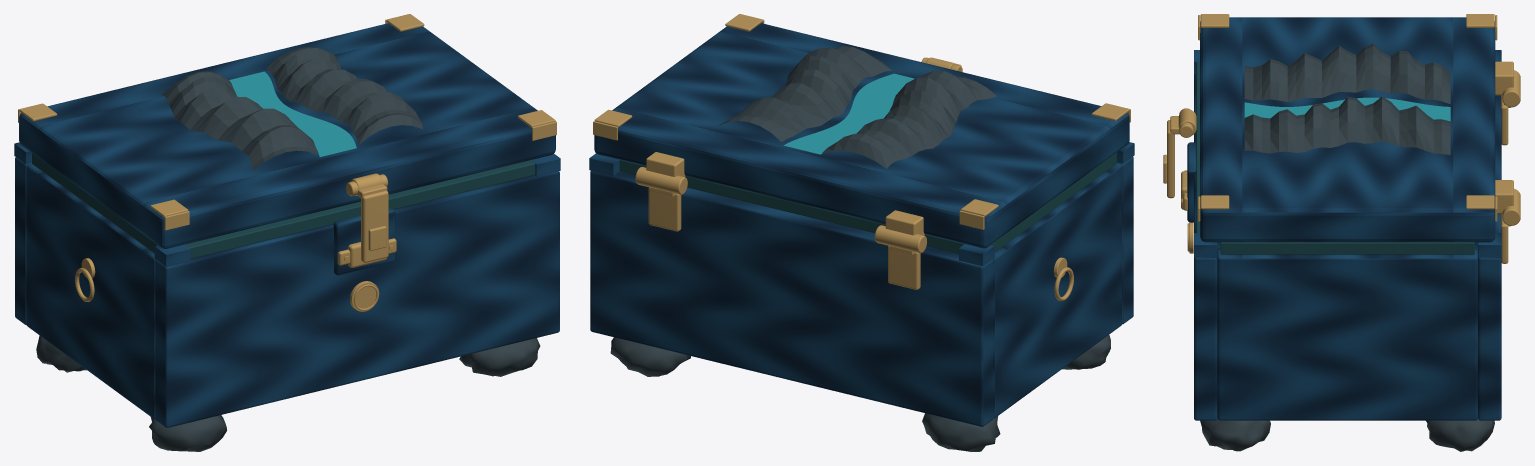
Rendered from atlantic.glb.
3 renders of one model, left to right at view 1: azimuth 30°, elevation 25°; view 2: azimuth 150°, elevation 25°; view 3: azimuth 270°, elevation 25°, orthographic.
Visible parts, largest first — view 1: Abyss / front, Lid / polished slab, Abyss / side, Ridge / west, Ridge / east, Mineral seam / long, Rift / continuous channel, Basalt foot, Abyss / rear, Basalt foot.002, Latch / lifting hasp, Abyss / clasp seat (+4 smaller); view 2: Abyss / rear, Lid / polished slab, Abyss / side, Ridge / west, Ridge / east, Rift / continuous channel, Mineral seam / long.001, Basalt foot.001, Abyss / front, Basalt foot.003, Mineral seam / side, Hinge / fixed mount.001 (+8 smaller); view 3: Lid / polished slab, Abyss / side.001, Ridge / east, Ridge / west, Abyss / rear, Abyss / front, Mineral seam / side.001, Basalt foot.002, Basalt foot.003, Rift / continuous channel, Abyss / clasp seat, Mineral seam / long (+11 smaller).
Part boxes in pixels (x1,y1,x2,y2): Abyss / front: (155,171,559,427); Lid / polished slab: (19,23,555,248); Abyss / side: (26,164,155,419); Ridge / west: (161,71,317,170); Ridge / east: (266,47,422,144); Mineral seam / long: (184,160,535,258); Rift / continuous channel: (229,71,356,156); Basalt foot: (149,415,226,451); Abyss / rear: (15,157,31,325); Basalt foot.002: (459,338,540,376); Latch / lifting hasp: (361,190,388,262); Abyss / clasp seat: (333,208,395,275); Abyss / rear: (590,170,993,426); Lid / polished slab: (594,23,1129,248); Abyss / side: (993,163,1121,418); Ridge / west: (822,71,996,168); Ridge / east: (718,46,891,141); Rift / continuous channel: (783,73,914,154); Mineral seam / long.001: (619,160,964,253); Basalt foot.001: (922,413,1000,451); Abyss / front: (1117,157,1133,324); Basalt foot.003: (610,337,690,376); Mineral seam / side: (991,153,1116,252); Hinge / fixed mount.001: (648,187,681,231); Lid / polished slab: (1200,17,1495,242); Abyss / side.001: (1217,249,1477,420); Ridge / east: (1244,96,1450,154); Ridge / west: (1244,43,1450,104); Abyss / rear: (1478,95,1501,420); Abyss / front: (1194,74,1217,420); Mineral seam / side.001: (1220,242,1474,254); Basalt foot.002: (1200,419,1270,451); Basalt foot.003: (1426,419,1494,451); Rift / continuous channel: (1244,97,1450,121); Abyss / clasp seat: (1187,142,1196,222); Mineral seam / long: (1196,61,1199,232).
Size of the model in its own units: 3.79 by 2.62 by 2.88.
5 materials, 1 textured.
